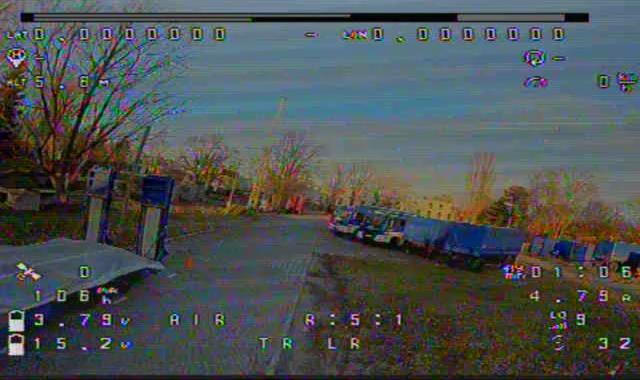truck: (350, 199, 435, 256), (326, 191, 377, 249)
